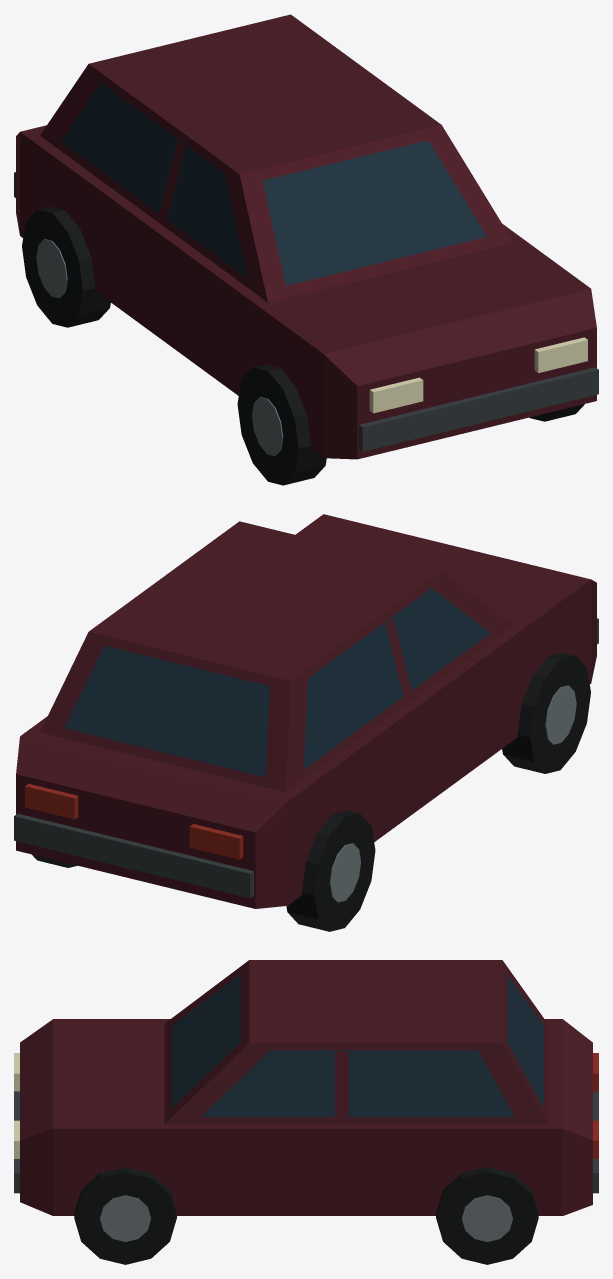
File: burgundy_hatchback.obj
3 renders of one model, top to bottom at view 1: azimuth 30°, elevation 25°; view 2: azimuth 150°, elevation 25°; view 3: azimuth 270°, elevation 25°, orthographic. The views are drawn at different scales.
Parts seen in each view (by area): view 1: burgundy_hatchback; view 2: burgundy_hatchback; view 3: burgundy_hatchback.
Part boxes in pixels (bbox=[...]): burgundy_hatchback: bbox=[14, 14, 598, 485]; burgundy_hatchback: bbox=[14, 514, 598, 931]; burgundy_hatchback: bbox=[14, 960, 598, 1264].
Bounding box in the file's own units: 1.89 × 1.49 × 3.88.
